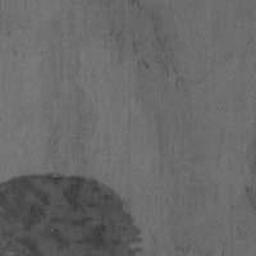Oil spot: (0, 168, 146, 256)
